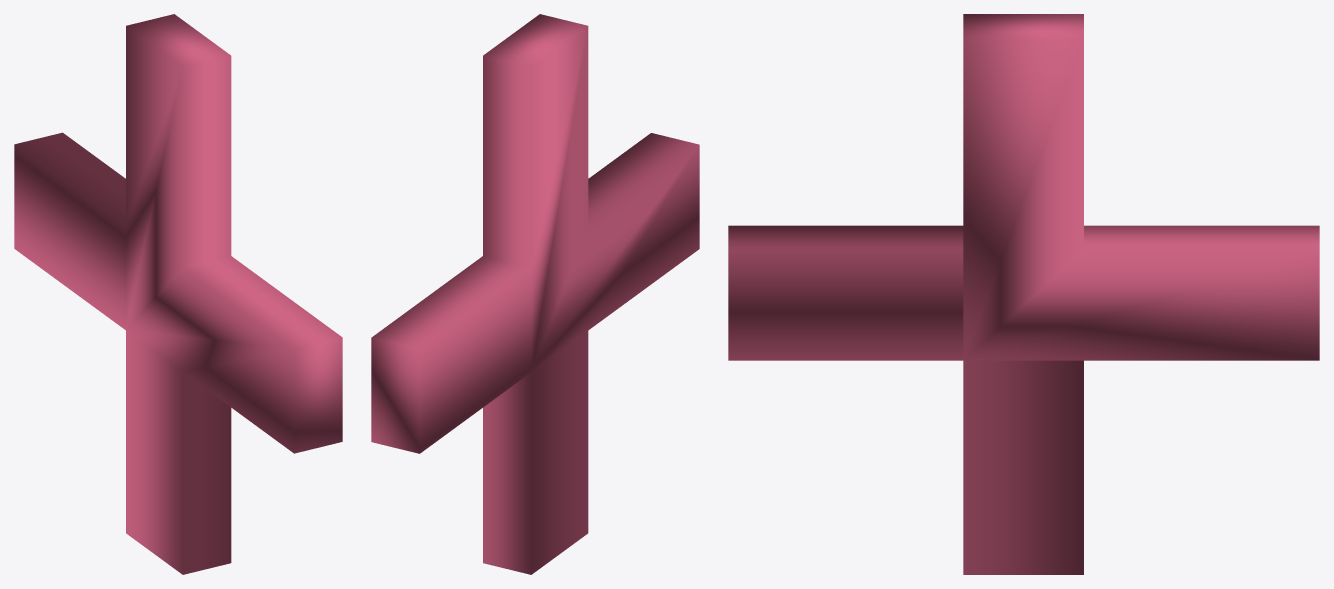
The model's file is lifePickup.fbx.
The picture shows the model from 3 angles, left to right: view 1: azimuth 30°, elevation 25°; view 2: azimuth 150°, elevation 25°; view 3: azimuth 270°, elevation 25°; orthographic projection. The views are drawn at different scales.
Parts seen in each view (by area): view 1: Cross; view 2: Cross; view 3: Cross.
Part boxes in pixels (box(x1,y1,x2,y2)): Cross: box(14, 14, 342, 574); Cross: box(371, 14, 699, 574); Cross: box(728, 14, 1319, 574).
Size of the model in its own units: 20 by 200 by 200.
